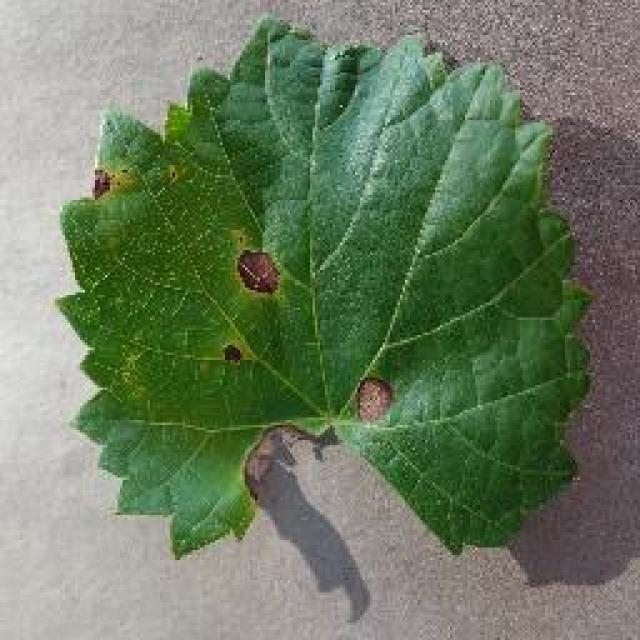Grape___Black_rot: (46, 12, 597, 565)
